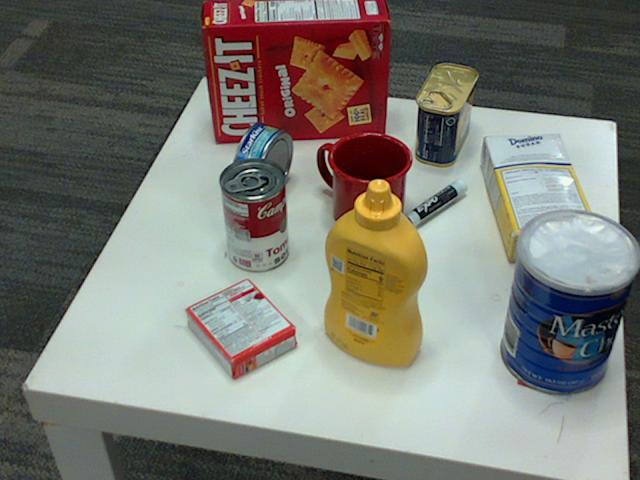cracker_box: (203, 0, 389, 140)
gelatin_box: (181, 277, 293, 380)
large_marker: (388, 182, 468, 238)
master_chef_can: (502, 210, 639, 396)
mug: (317, 130, 412, 233)
mustard_bottle: (324, 180, 427, 366)
potted_meat_can: (414, 64, 476, 167)
sugar_box: (480, 134, 599, 262)
tomato_soup_can: (219, 158, 288, 272)
tuna_fish_can: (230, 122, 292, 201)
